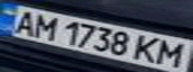1: (54, 18, 81, 46)
3: (90, 25, 112, 54)
7: (75, 21, 96, 50)
8: (109, 29, 133, 58)
A: (6, 8, 42, 36)
K: (130, 34, 163, 64)
M: (154, 38, 190, 69), (27, 12, 63, 41)
